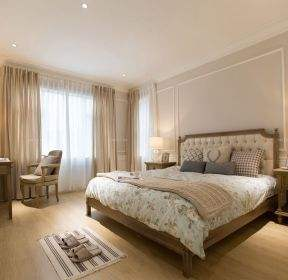床: (88, 171, 279, 258)
枕头: (178, 146, 266, 179)
灯: (79, 3, 91, 10), (7, 42, 17, 50), (119, 72, 127, 80)
